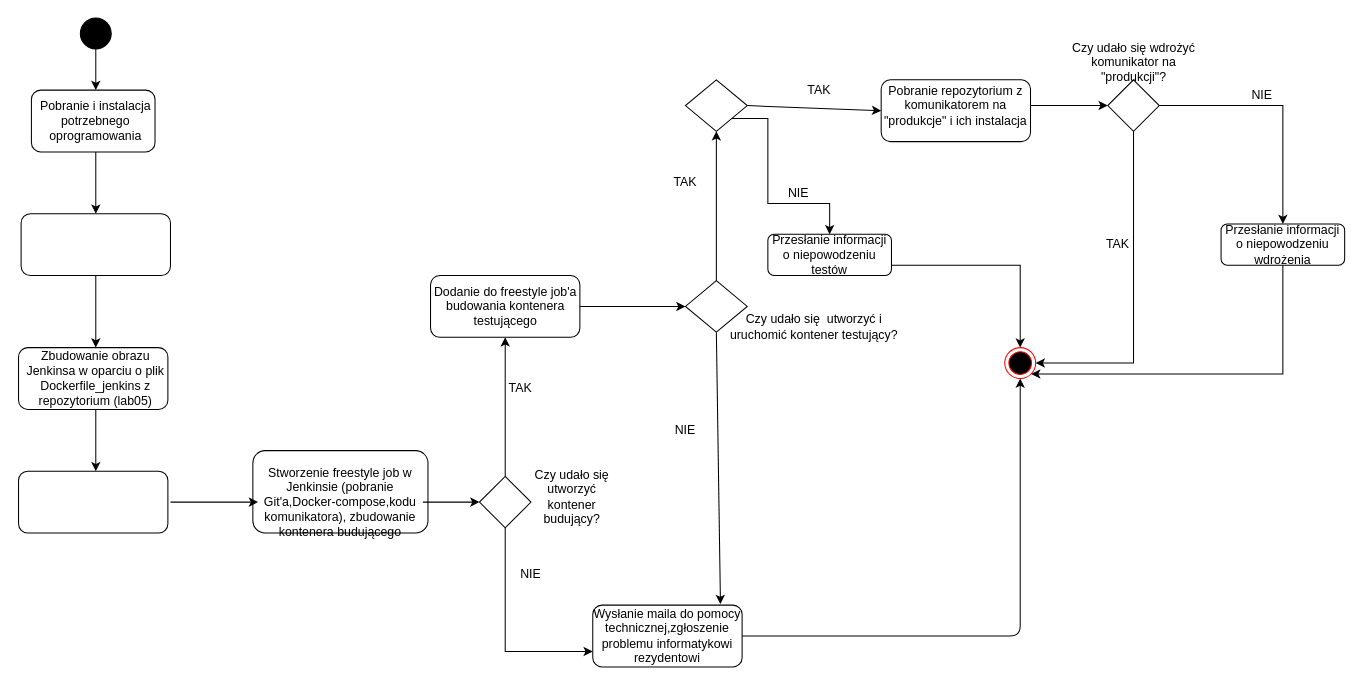
The diagram is 1363 pixels wide and 685 high, and some of its shapes have lost their labels. The box of each missing label's shape, as (x1, y1, x2, y2) in pixels:
Pobranie repozytorium zawierającego niezbędne pliki (lab05): (20, 213, 170, 276)
Zgłoszenie zmiany kodu w repozytorium (automatyczne sprawdzenie co np. 1h): (18, 470, 168, 533)
